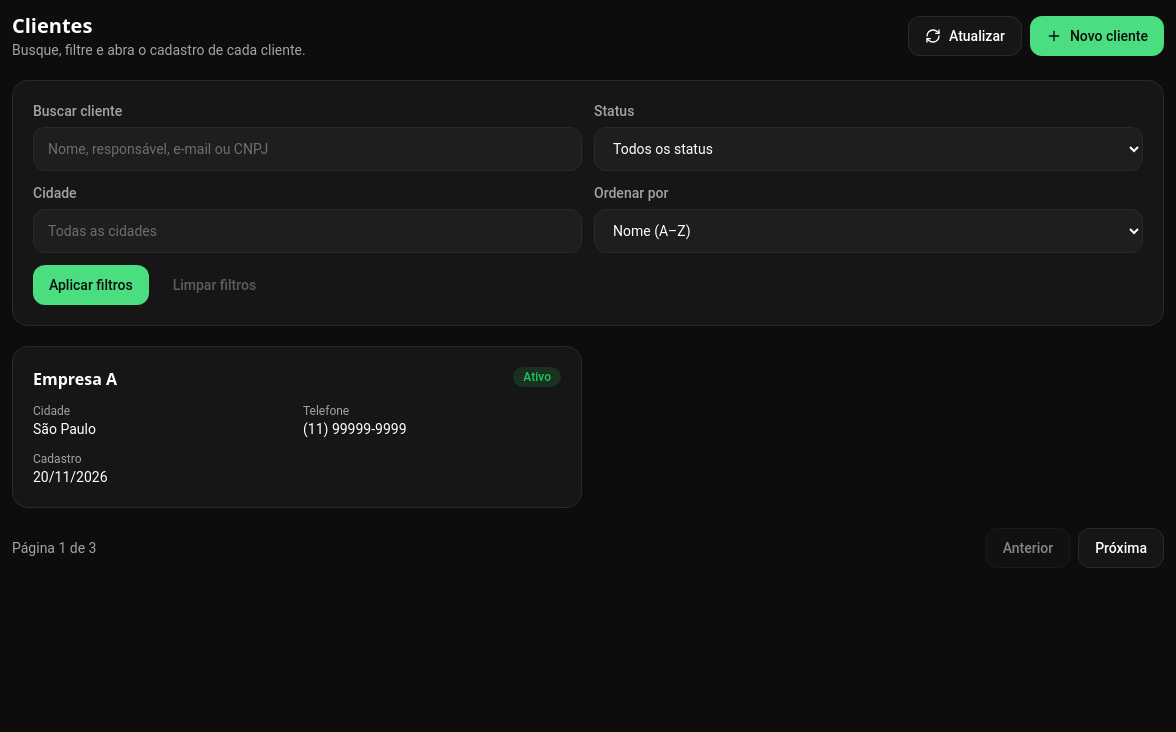
Test: ClientsPage › mantém a página de origem quando uma consulta de outra página falha
Expected: the link "Empresa A" is shown, top-left (33, 368), bottom-right (117, 390)
Click the button "Próxima" at (1121, 548), box top-left (1078, 528), bottom-right (1164, 568)
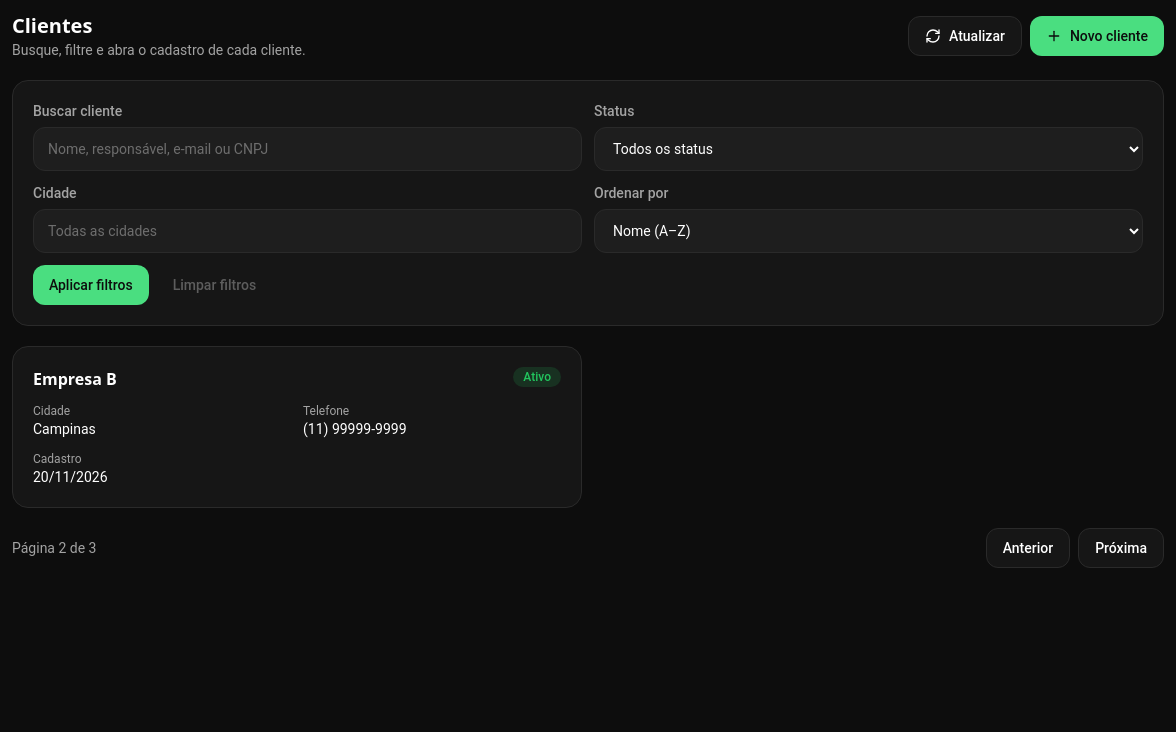
Expected: the text "Página 2 de 3" is shown, top-left (12, 538), bottom-right (96, 558)
Type "Campinas" into the field labelled "Buscar cliente" at (308, 149), box top-left (33, 127), bottom-right (582, 171)
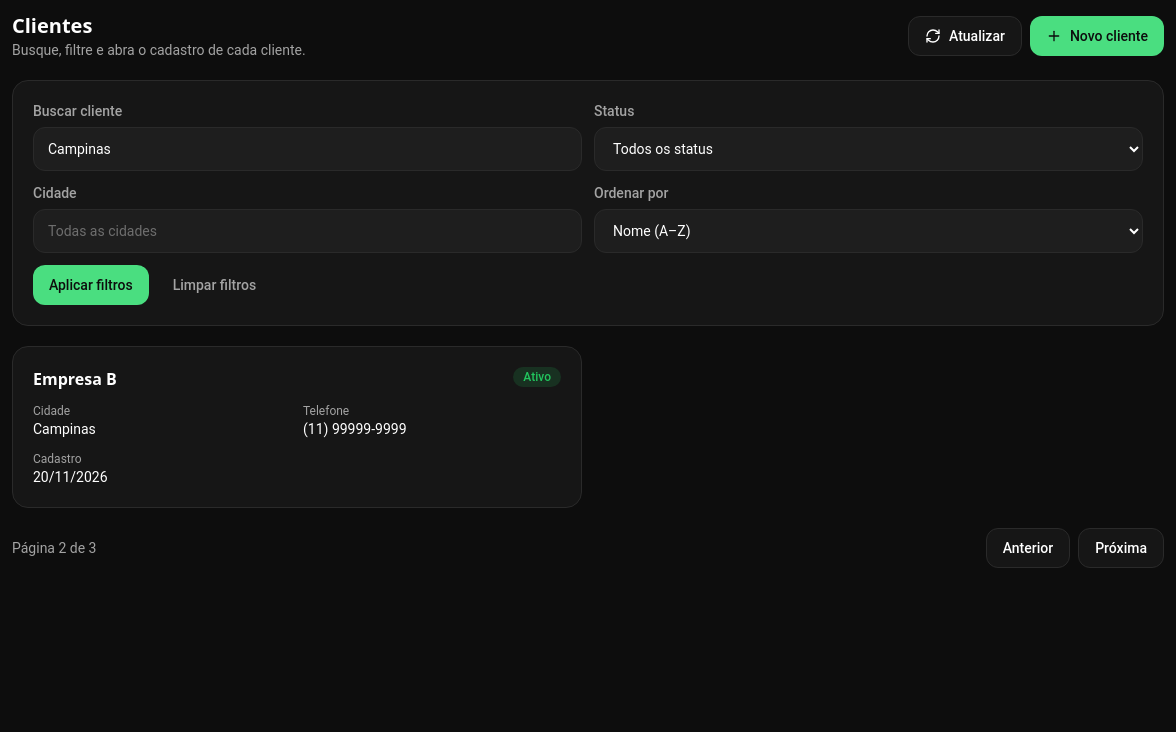
Click the button "Aplicar filtros" at (91, 285), box top-left (33, 265), bottom-right (149, 305)
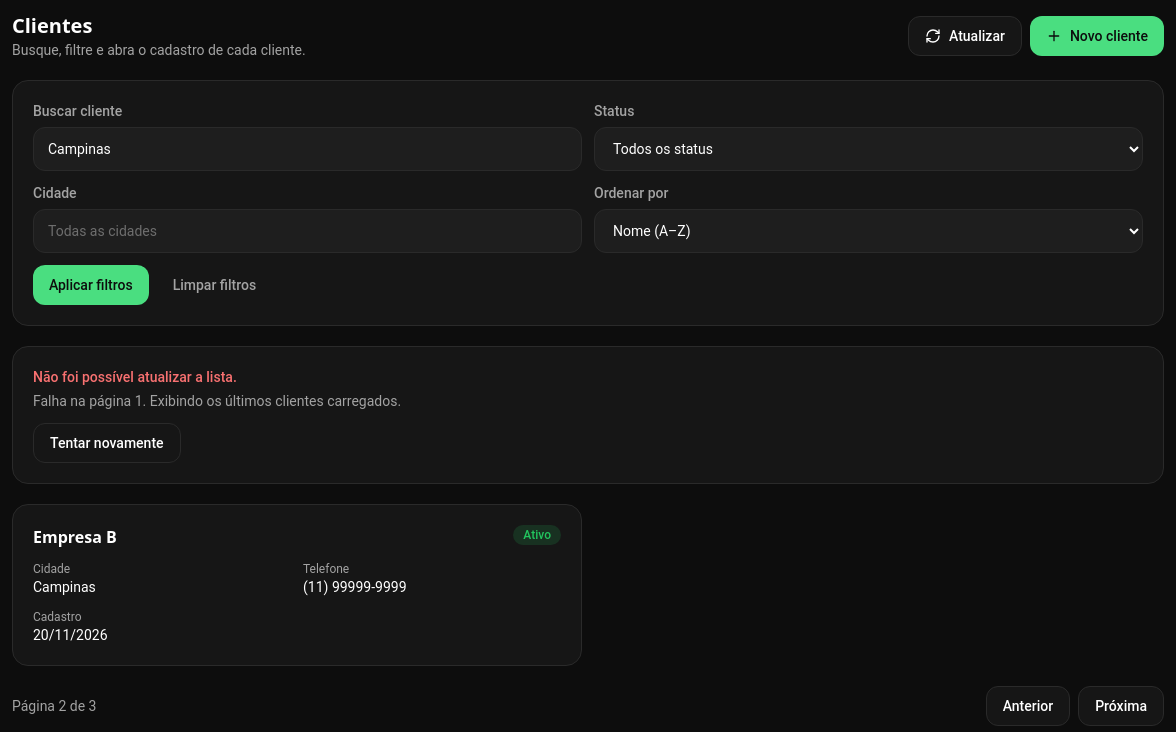
Expected: the link "Empresa B" is shown, top-left (33, 526), bottom-right (117, 548)
Expected: the text "Página 2 de 3" is shown, top-left (12, 696), bottom-right (96, 716)
Expected: the message that starts with "Não foi possível atualizar a lista." shows "Falha na página 1.", top-left (33, 393), bottom-right (146, 409)
